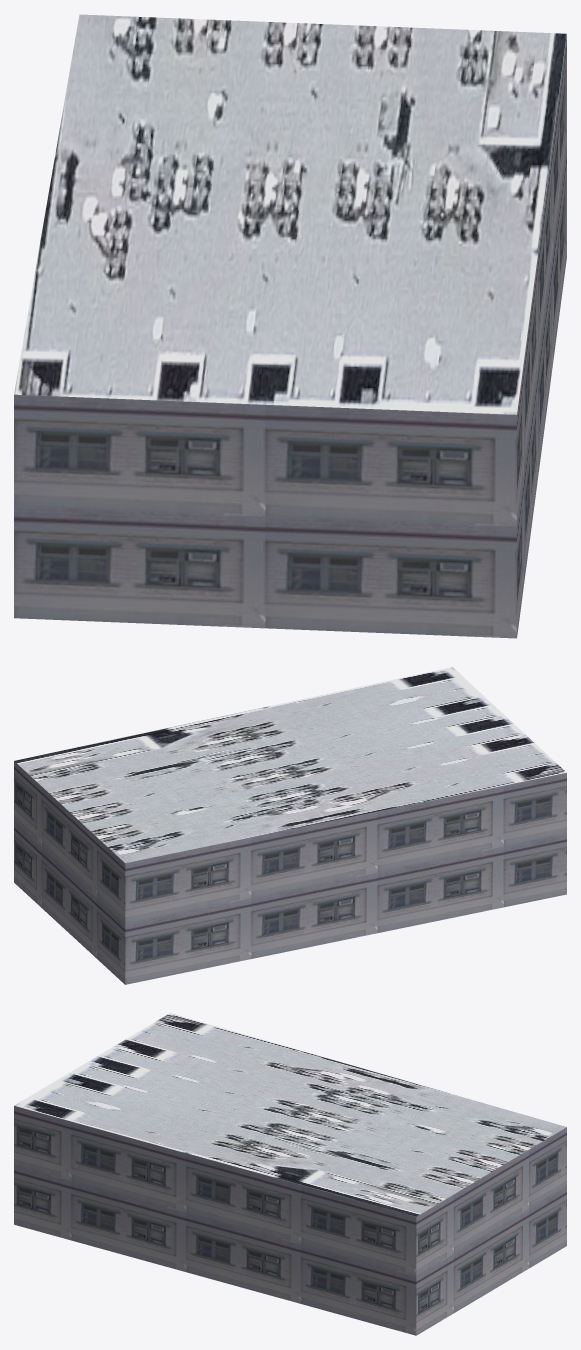
File: ResTex__2101.fbx
3 renders of one model, top to bottom at view 1: azimuth 30°, elevation 25°; view 2: azimuth 150°, elevation 25°; view 3: azimuth 270°, elevation 25°, orthographic. The views are drawn at different scales.
Parts seen in each view (by area): view 1: CityEngineMaterial_4_m, CityEngineMaterial_1_m; view 2: CityEngineMaterial_1_m, CityEngineMaterial_4_m; view 3: CityEngineMaterial_1_m, CityEngineMaterial_4_m.
Part boxes in pixels (bbox=[...]): CityEngineMaterial_4_m: bbox=[14, 14, 566, 414]; CityEngineMaterial_1_m: bbox=[14, 35, 566, 638]; CityEngineMaterial_1_m: bbox=[14, 761, 566, 984]; CityEngineMaterial_4_m: bbox=[14, 667, 566, 862]; CityEngineMaterial_1_m: bbox=[14, 1106, 566, 1335]; CityEngineMaterial_4_m: bbox=[14, 1013, 566, 1216].
Bounding box in the file's own units: 22.03 × 6 × 25.28.
Materials: 2 (2 with a texture image).
